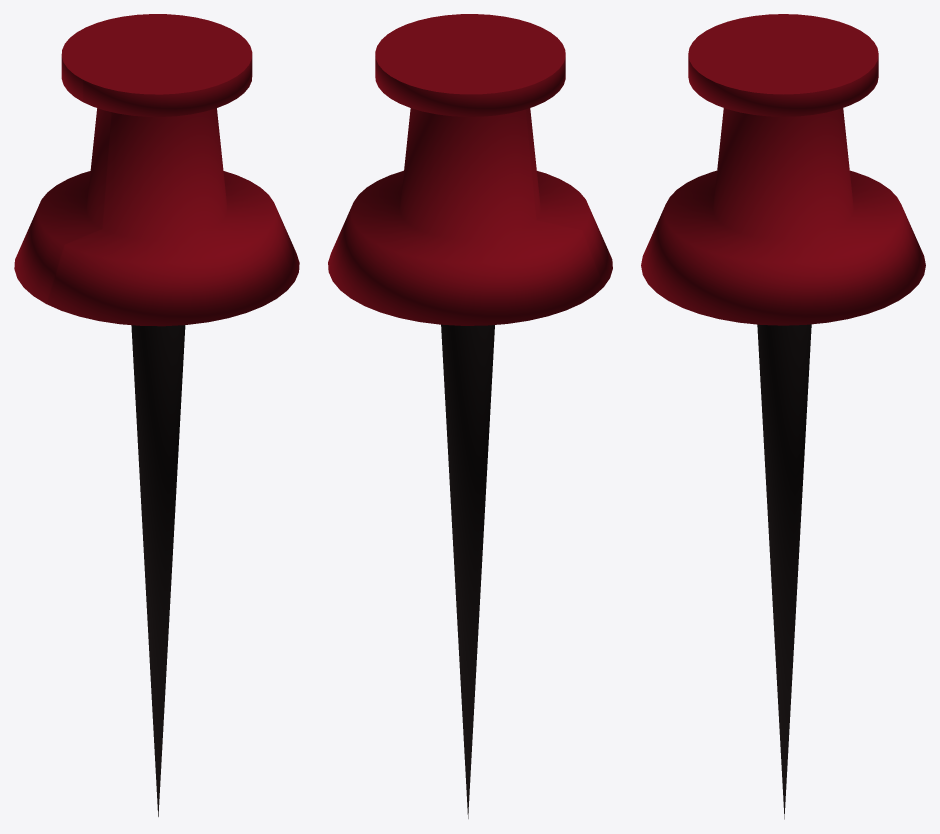
The model's file is pin.fbx.
3 views of the same model, side by side, from view 1: azimuth 30°, elevation 25°; view 2: azimuth 150°, elevation 25°; view 3: azimuth 270°, elevation 25° (orthographic).
Parts seen in each view (by area): view 1: pin:pin1; view 2: pin:pin1; view 3: pin:pin1.
Part boxes in pixels (x1,y1,x2,y2): pin:pin1: (14, 14, 299, 816); pin:pin1: (328, 14, 612, 818); pin:pin1: (641, 14, 925, 819).
Size of the model in its own units: 0.7971 by 2.36 by 0.7971.
